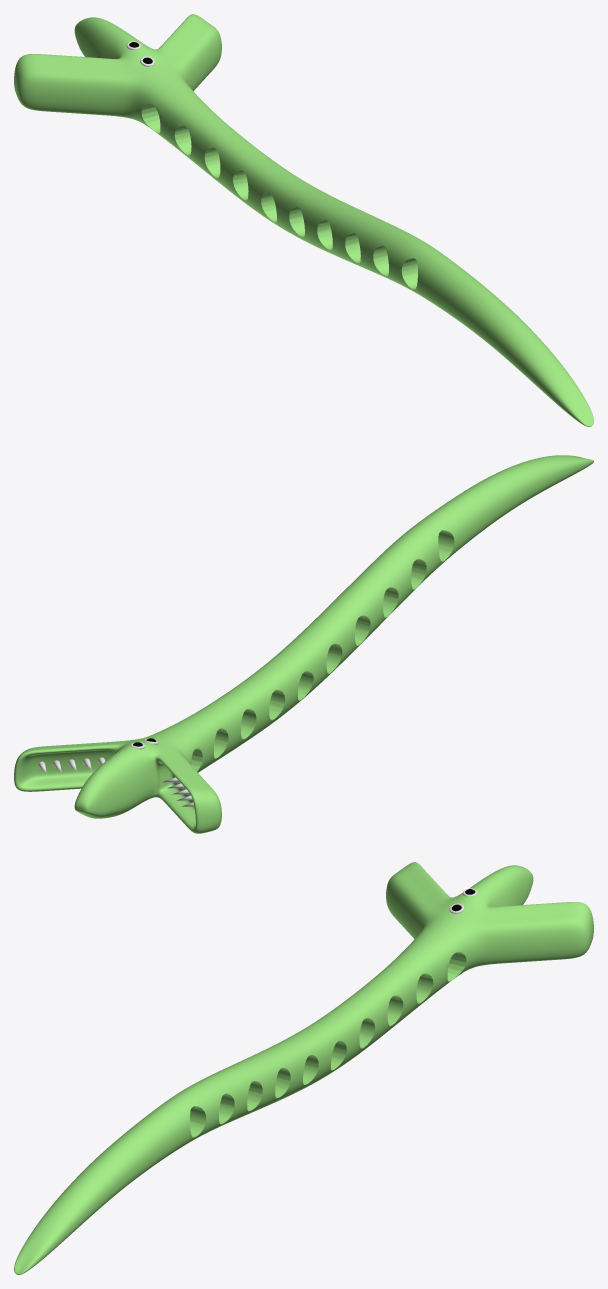
The model's file is EelFish-Old.fbx.
3 views of the same model, one above another, from view 1: azimuth 30°, elevation 25°; view 2: azimuth 150°, elevation 25°; view 3: azimuth 330°, elevation 25° (orthographic).
Parts seen in each view (by area): view 1: Body; view 2: Body; view 3: Body.
Boxes of the visible parts, x1=… form: Body: x1=14, y1=14, x2=593, y2=426; Body: x1=14, y1=455, x2=593, y2=833; Body: x1=14, y1=862, x2=593, y2=1274.
Size of the model in its own units: 156 by 61.27 by 685.
